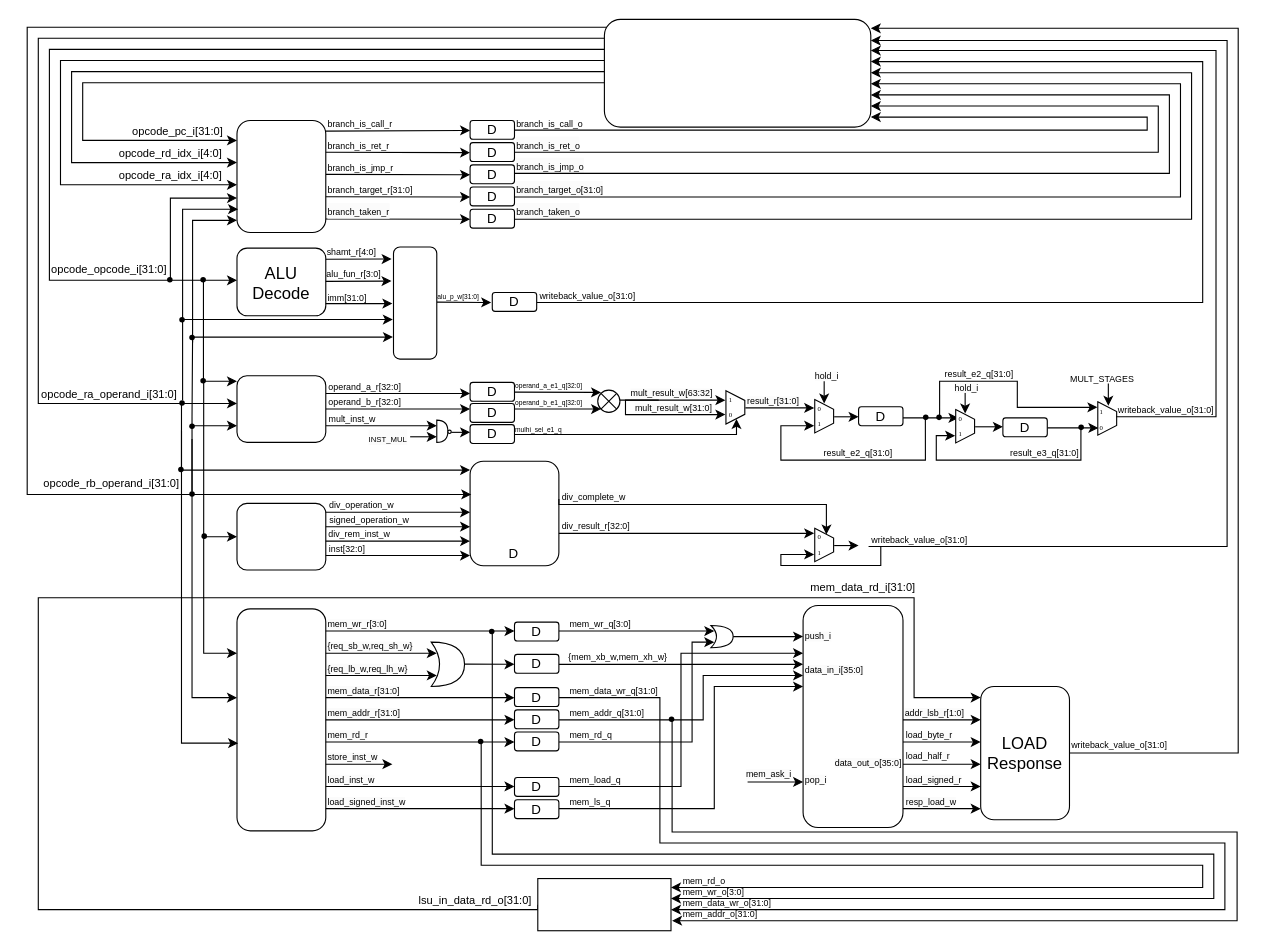
The diagram is 1267 pixels wide and 950 high, and some of its shapes have lost their labels. The box of each missing label's shape, as (x1, y1, x2, y2) in pixels:
ALU: (392, 246, 437, 359)
Branch: (236, 119, 326, 233)
DIV: (469, 460, 559, 566)
DIV Decode: (236, 502, 326, 570)
Issue: (603, 18, 871, 127)
LSU Decode: (236, 608, 326, 831)
LSU FIFO: (802, 604, 903, 828)
MMU: (537, 877, 671, 931)
MUL Decode: (236, 375, 326, 442)
